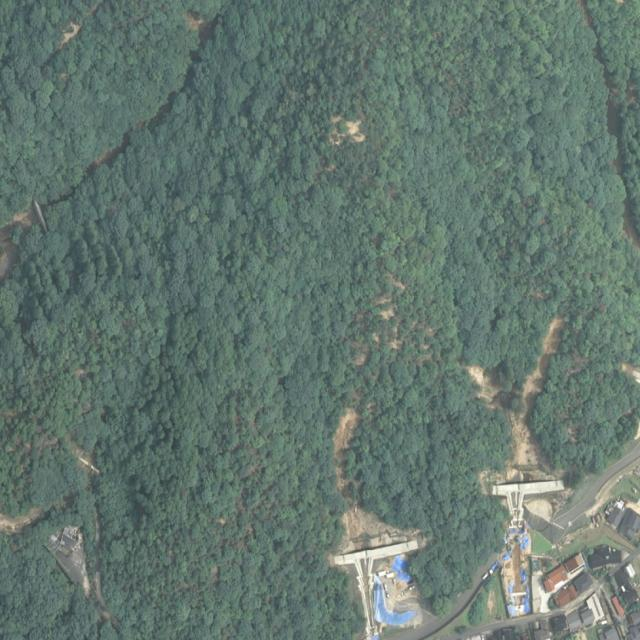landslide: (511, 317, 566, 468), (339, 503, 430, 555), (333, 408, 360, 492), (469, 367, 502, 407)
